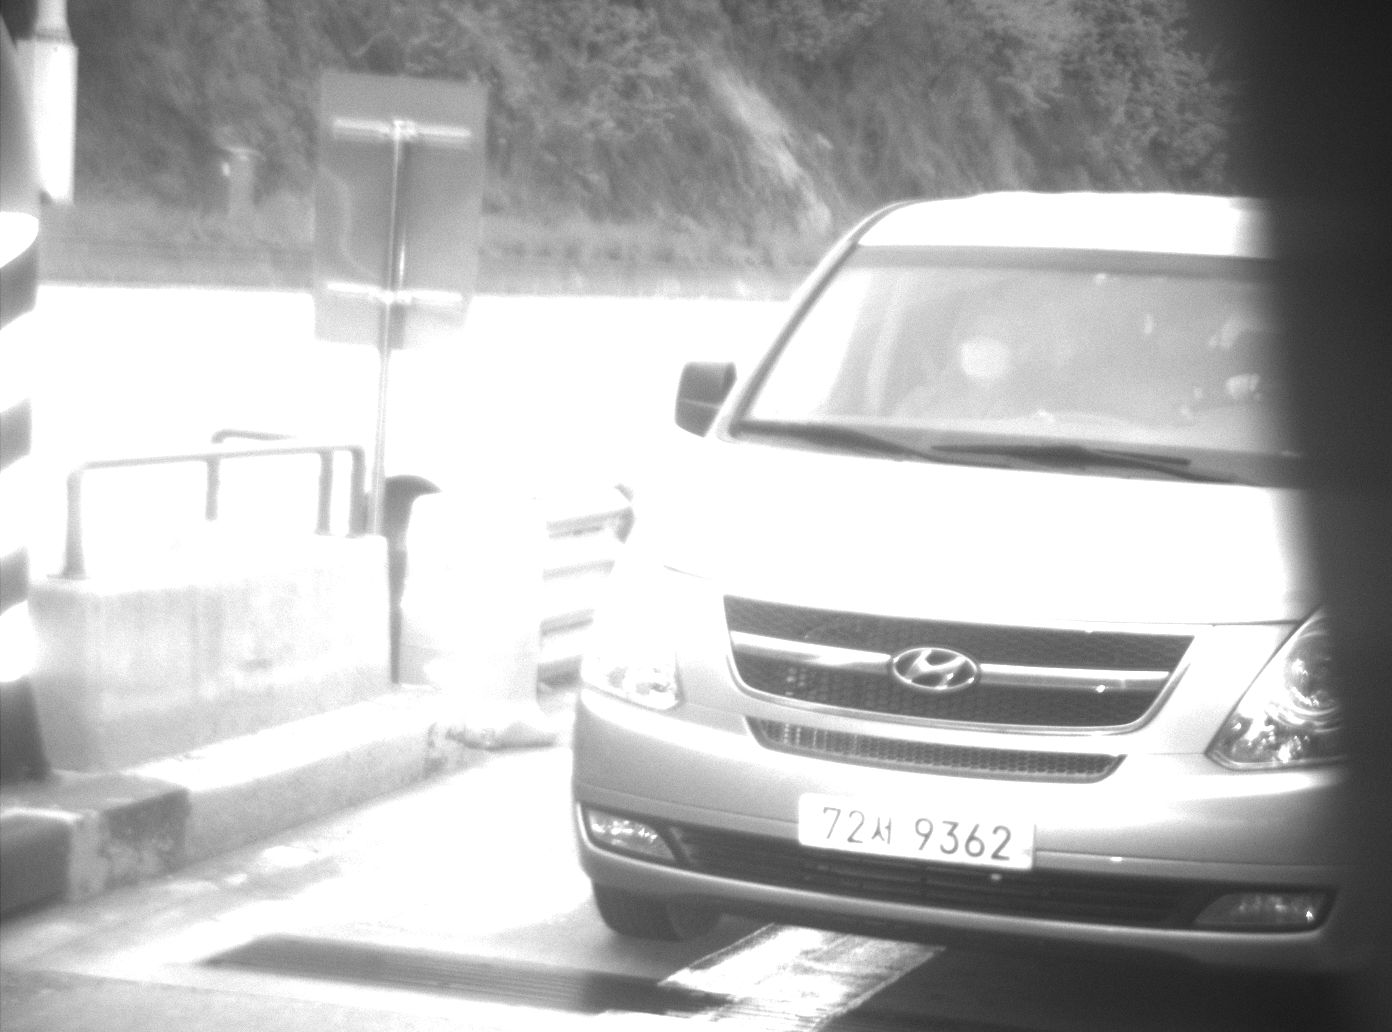car: (565, 185, 1392, 1004)
plate: (793, 787, 1039, 874)
